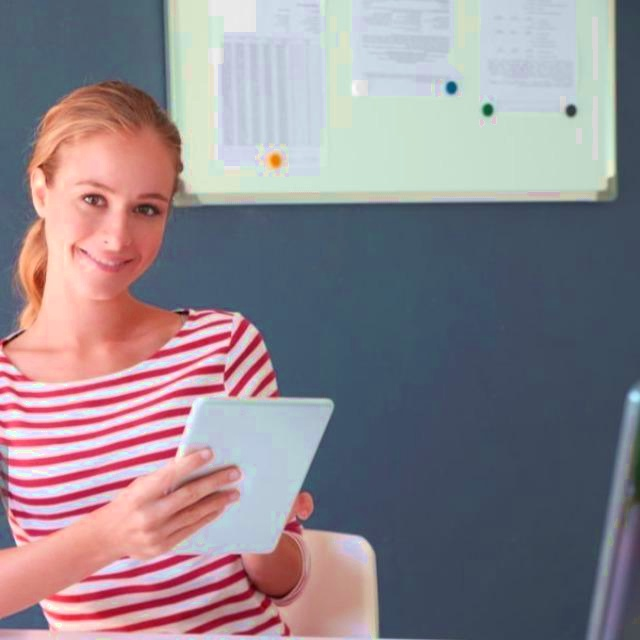Sin_Casco_Mascarrilla: (25, 80, 183, 304)
Sin_Chaleco: (0, 306, 276, 640)
